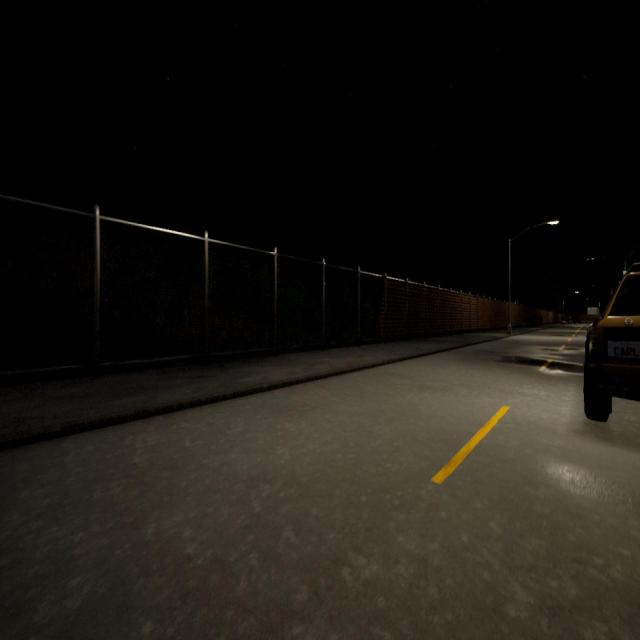Vehicle: (584, 262, 640, 420)
